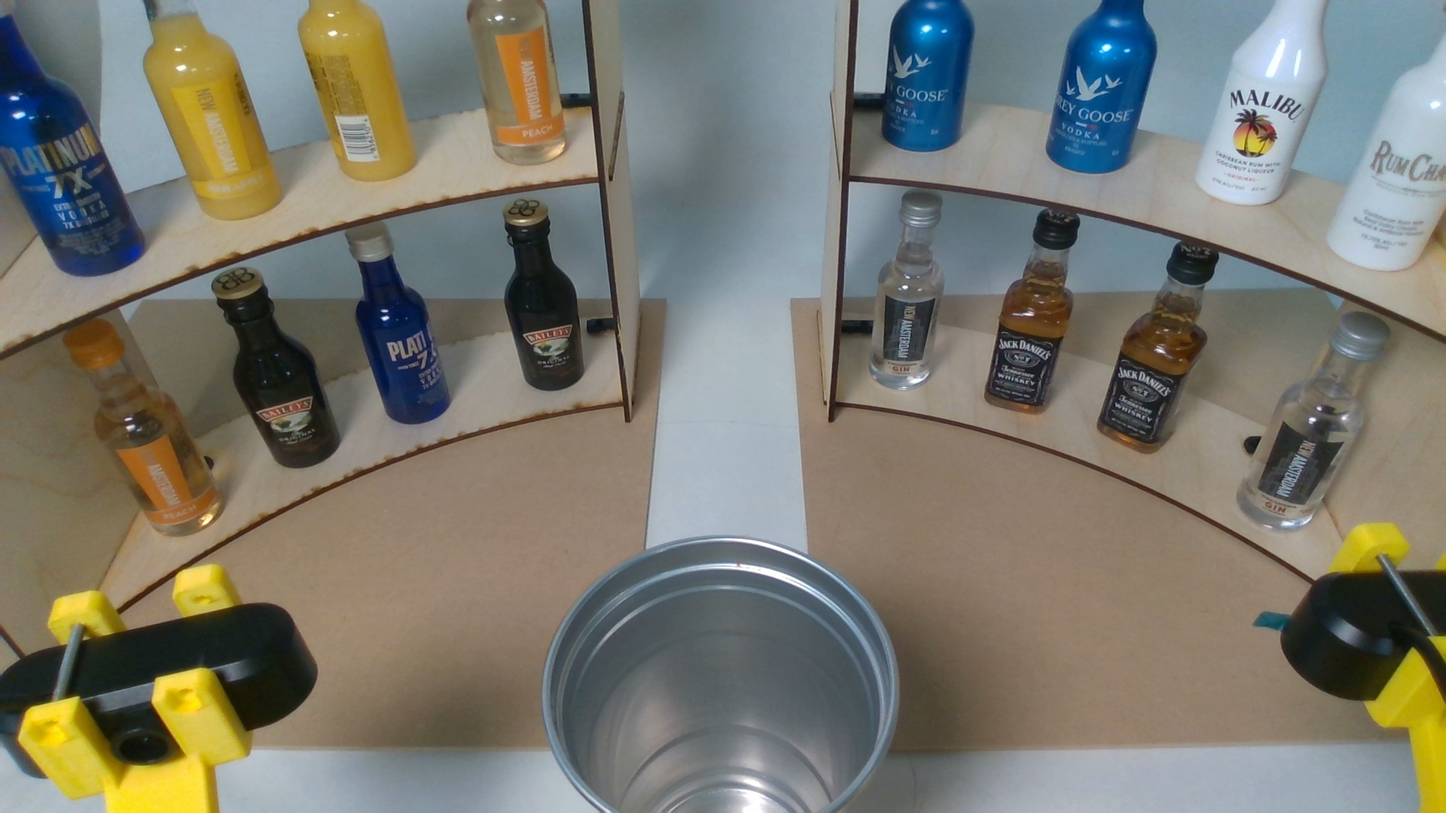coke: (213, 267, 341, 467), (499, 198, 589, 390)
gin: (1238, 310, 1390, 531), (868, 189, 949, 394)
ginger_beer: (63, 318, 229, 538), (463, 0, 572, 167)
orange_juice: (142, 0, 287, 222), (295, 0, 422, 186)
tequila: (1196, 0, 1330, 204)
tonic_water: (0, 0, 150, 281), (344, 222, 455, 427)
vodka: (1045, 0, 1159, 175), (881, 0, 976, 155)
whiskey: (1100, 241, 1219, 456), (983, 209, 1083, 417)
